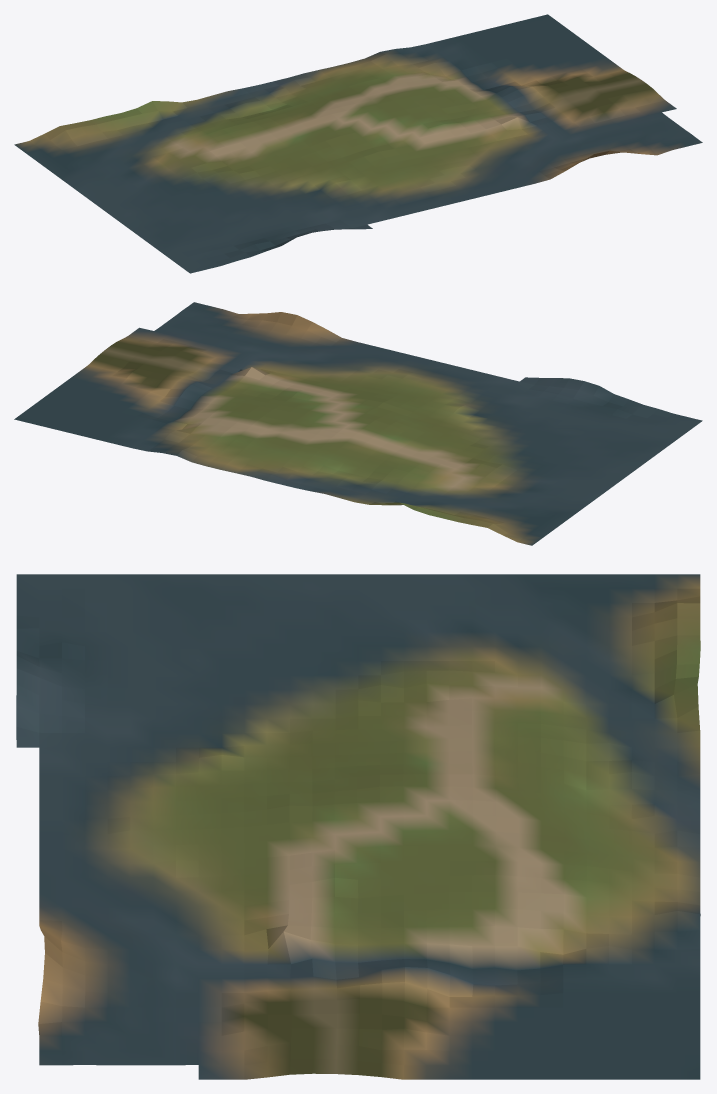
Rendered from MAPA 4 Y 5.glb.
The picture shows the model from 3 angles, top to bottom: view 1: azimuth 30°, elevation 25°; view 2: azimuth 150°, elevation 25°; view 3: azimuth 270°, elevation 25°; orthographic projection. The views are drawn at different scales.
Parts seen in each view (by area): view 1: MAPA 4 Y 5; view 2: MAPA 4 Y 5; view 3: MAPA 4 Y 5.
Boxes of the visible parts, box(x1,y1,x2,y2) form: MAPA 4 Y 5: box(14, 14, 702, 273); MAPA 4 Y 5: box(14, 302, 702, 545); MAPA 4 Y 5: box(16, 574, 700, 1079).
Bounding box in the file's own units: 64.81 × 2.03 × 37.07.
